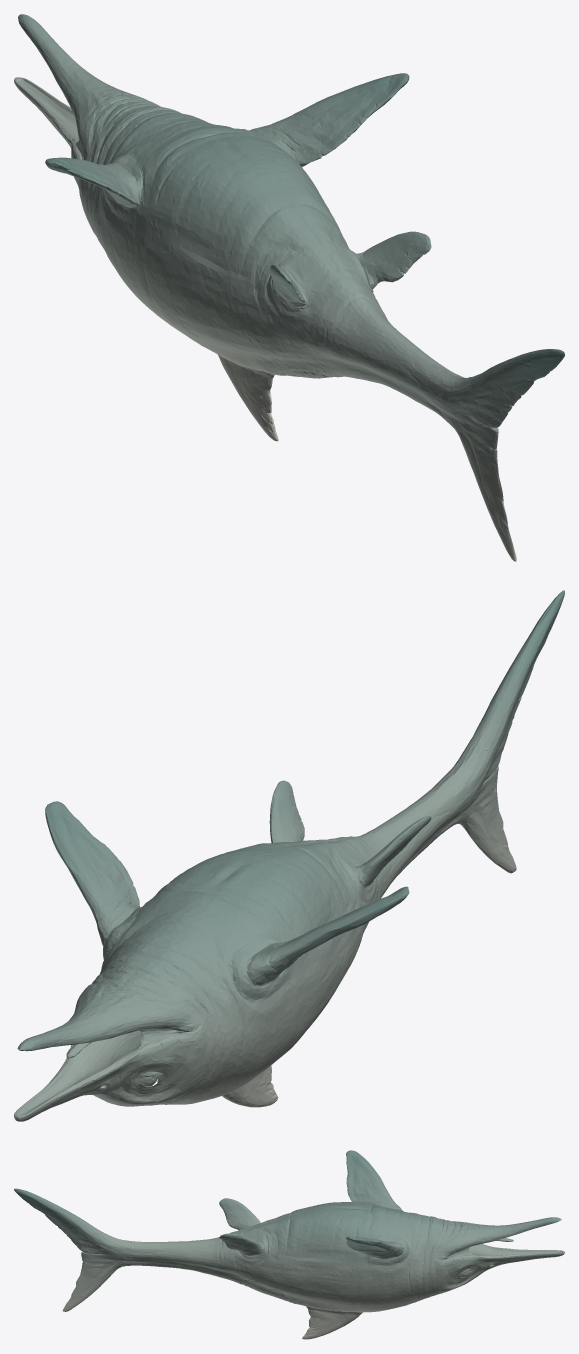
Rendered from ophthalmosaurus.glb.
The picture shows the model from 3 angles, top to bottom: view 1: azimuth 30°, elevation 25°; view 2: azimuth 150°, elevation 25°; view 3: azimuth 270°, elevation 25°; orthographic projection. The views are drawn at different scales.
Parts seen in each view (by area): view 1: world; view 2: world; view 3: world.
Boxes of the visible parts, x1,y1,x2,y2 form: world: [14, 14, 564, 561]; world: [14, 590, 564, 1121]; world: [14, 1150, 564, 1339].
Size of the model in its own units: 15.33 by 12.17 by 40.32.
